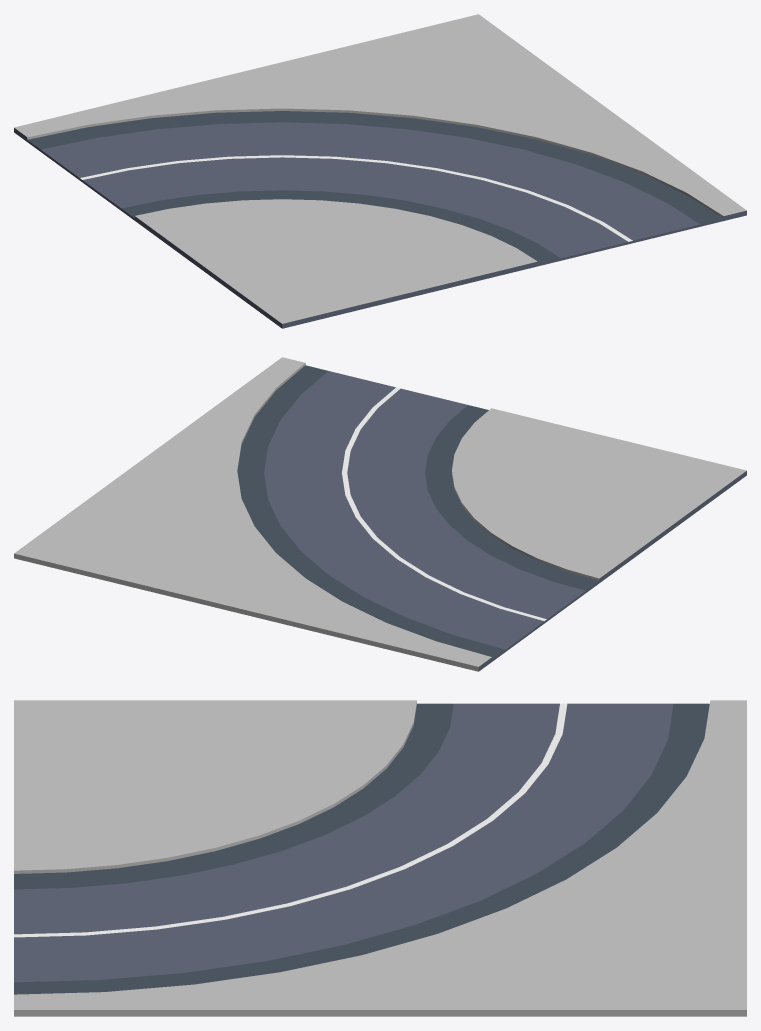
Rendered from SM_Road_Curve_Pavement.fbx.
3 views of the same model, one above another, from view 1: azimuth 30°, elevation 25°; view 2: azimuth 150°, elevation 25°; view 3: azimuth 270°, elevation 25° (orthographic). The views are drawn at different scales.
Parts seen in each view (by area): view 1: SM_Road_Curve_Pavement; view 2: SM_Road_Curve_Pavement; view 3: SM_Road_Curve_Pavement.
Part boxes in pixels (box(x1,y1,x2,y2)): SM_Road_Curve_Pavement: box(14, 14, 746, 328); SM_Road_Curve_Pavement: box(14, 357, 746, 671); SM_Road_Curve_Pavement: box(14, 700, 746, 1016).
Bounding box in the file's own units: 2000 × 20 × 2000.
